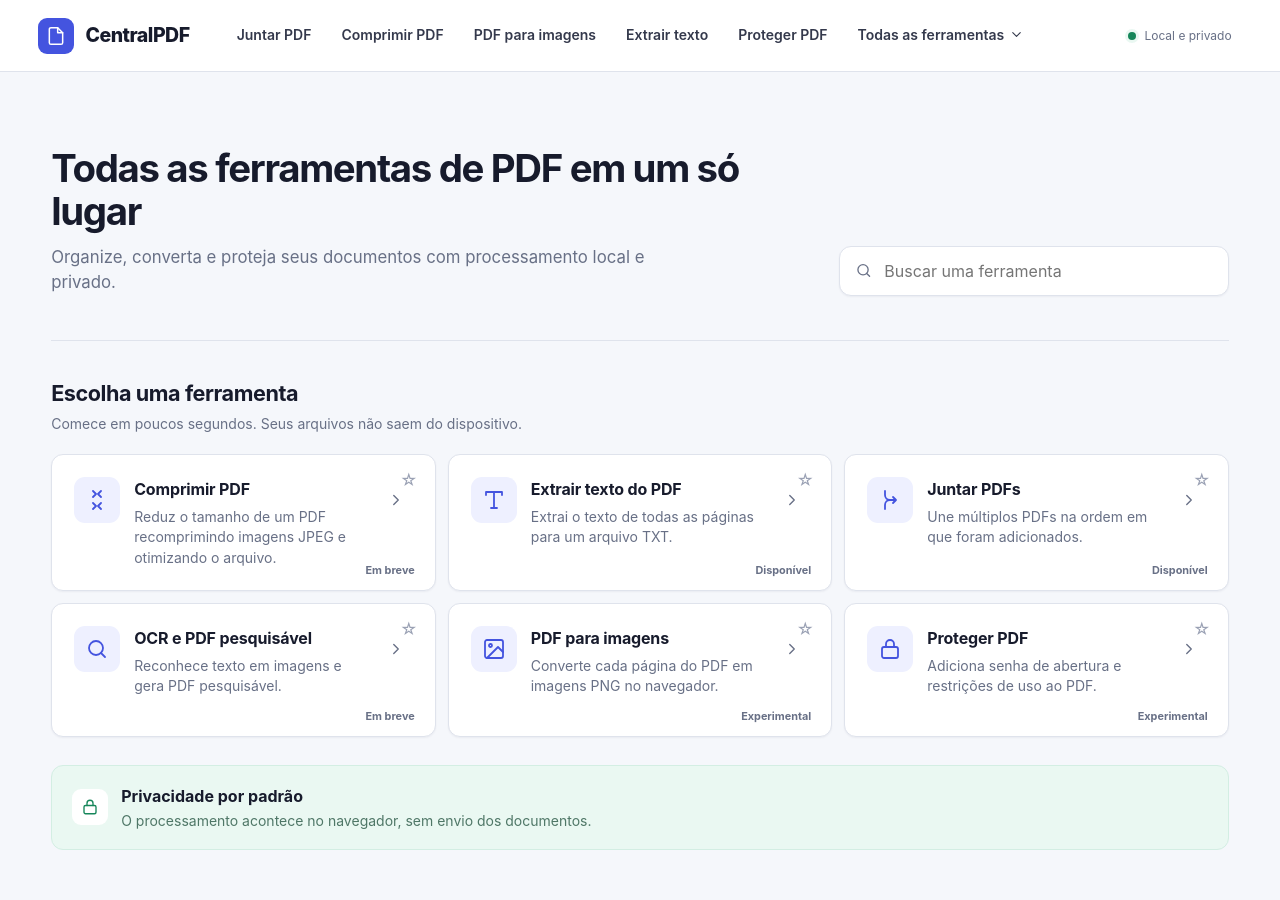
Workspace (fluxo da ferramenta) › valida a ausência de arquivos e desabilita o botão de processar
Click the button "Juntar PDFs" at (1037, 521), box x1=845 y1=455 x2=1228 y2=587
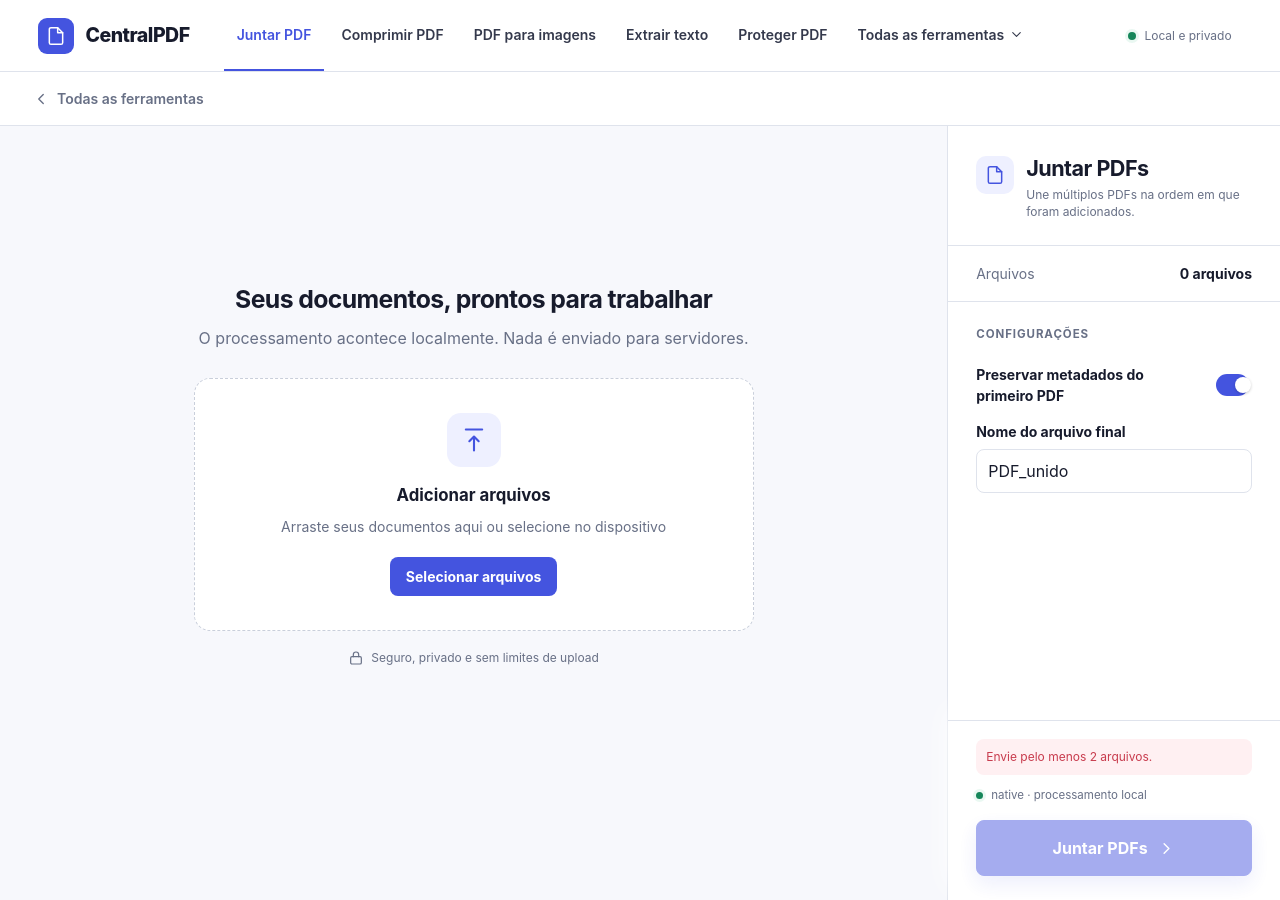
expect the text "Envie pelo menos 2 arquivos." is shown: met, box x1=976 y1=739 x2=1252 y2=775
expect the button "Juntar PDFs" is disabled: met, box x1=976 y1=820 x2=1252 y2=876
